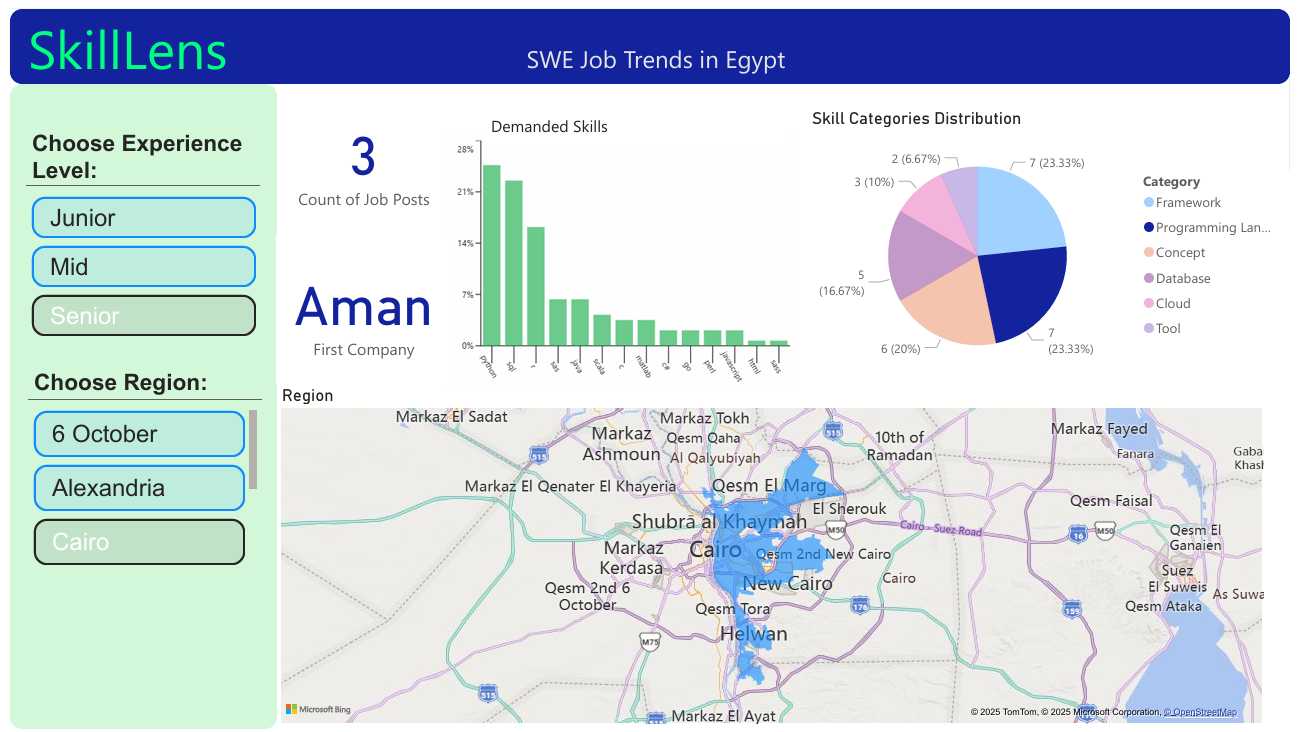

The dashboard page shown, as its layout file describes it:
{"tool":"powerbi","page":{"name":"Page 1","canvas":[1280,720],"ordinal":0},"visuals":[{"type":"shape","box":[0,0,1280,75],"z":0},{"type":"shape","box":[426.7,21.7,428.3,53.3],"z":1000},{"type":"card","fields":{"Values":["CountNonNull(JobPosts.JobID)"]},"box":[266.7,75,235,150],"z":2000},{"type":"clusteredColumnChart","box":[501.7,75,778.3,150],"z":3000},{"type":"filledMap","fields":{"Category":["JobPosts.Region"]},"box":[1023.3,285,235,150],"z":4000},{"type":"pieChart","title":"Skill Categories Distribution","fields":{"Category":["Skills.Category"],"Y":["CountNonNull(Skills.Category)"]},"box":[267.1,308.6,362.9,238.6],"z":5000},{"type":"clusteredColumnChart","box":[618.3,308.3,235,150],"z":6000},{"type":"shape","box":[0,75,266.7,645],"z":7000},{"type":"advancedSlicerVisual","title":"Choose Experience Level:","fields":{"Values":["JobPosts.ExperienceLevel"]},"box":[16.7,121.7,235,201.7],"z":8000},{"type":"advancedSlicerVisual","title":"Choose Region:","fields":{"Values":["JobPosts.Region"]},"box":[18.6,360,234.3,201.4],"z":9001}]}

Visuals, with their boxes in screenshot pixels (x1, y1, x2, y2), scaled from the page's 1280x720 canvas onto the 1297x732 screenshot:
shape: BBox(0, 0, 1296, 76)
shape: BBox(432, 22, 866, 76)
card - CountNonNull(JobPosts.JobID): BBox(270, 76, 508, 229)
clusteredColumnChart: BBox(508, 76, 1296, 229)
filledMap - JobPosts.Region: BBox(1037, 290, 1275, 442)
"Skill Categories Distribution" pieChart: BBox(271, 314, 638, 556)
clusteredColumnChart: BBox(627, 313, 865, 466)
shape: BBox(0, 76, 270, 731)
"Choose Experience Level:" advancedSlicerVisual: BBox(17, 124, 255, 329)
"Choose Region:" advancedSlicerVisual: BBox(19, 366, 256, 571)
